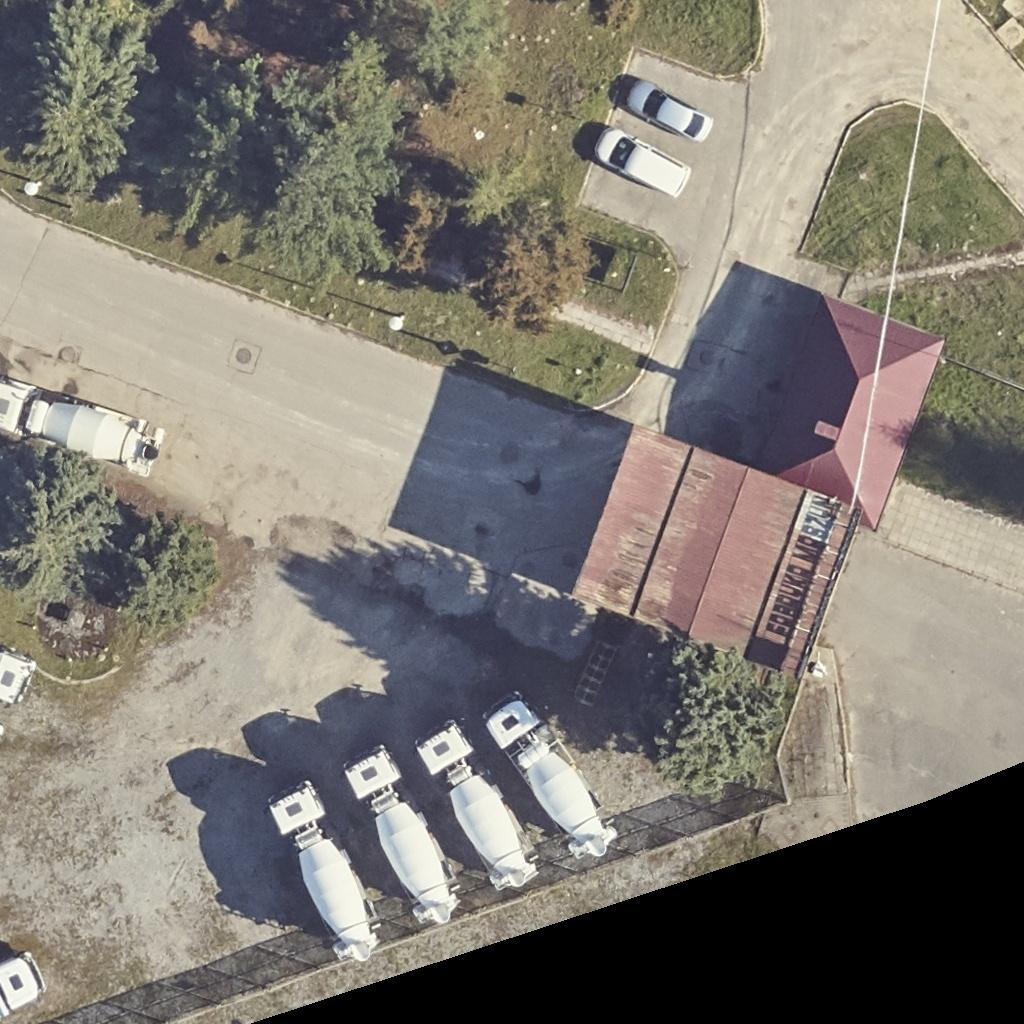betoniarka: (486, 692, 616, 857), (345, 745, 459, 923), (417, 720, 537, 889), (270, 780, 377, 959), (0, 374, 164, 476)
samochod_osobowy: (595, 127, 691, 197), (625, 79, 712, 141)
